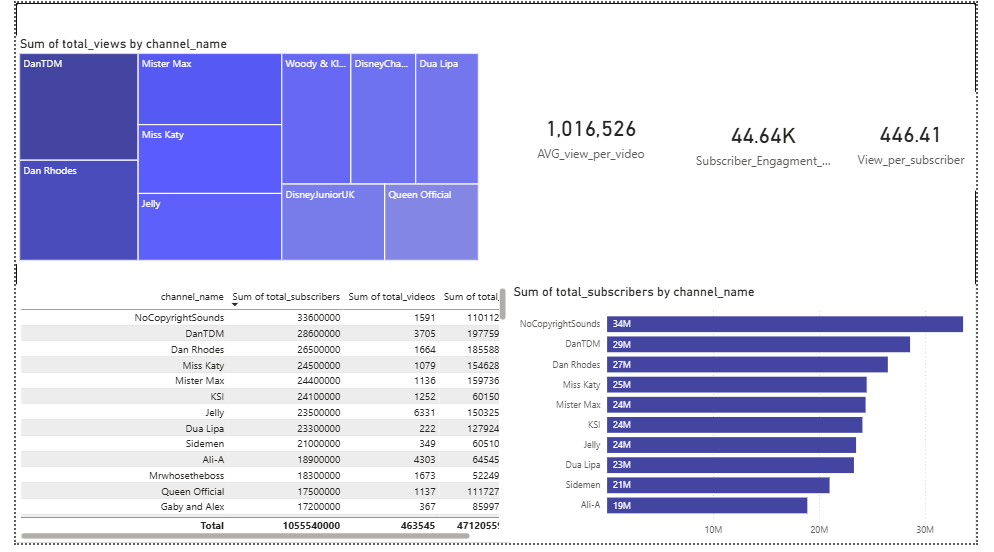

This screenshot's page, from the dashboard's own definition file:
{"tool":"powerbi","page":{"name":"Page 1","canvas":[1280,720],"ordinal":0},"visuals":[{"type":"tableEx","fields":{"Values":["viewyoutubedata2024.channel_name","Sum(viewyoutubedata2024.total_subscribers)","Sum(viewyoutubedata2024.total_videos)","Sum(viewyoutubedata2024.total_views)"]},"box":[0,375,658.3,345],"z":0},{"type":"treemap","fields":{"Group":["viewyoutubedata2024.channel_name"],"Values":["Sum(viewyoutubedata2024.total_views)"]},"box":[0,43.3,621.7,305],"z":1000},{"type":"barChart","fields":{"Category":["viewyoutubedata2024.channel_name"],"Y":["Sum(viewyoutubedata2024.total_subscribers)"]},"box":[658.7,374.6,621.6,345.8],"z":2000},{"type":"card","fields":{"Values":["viewyoutubedata2024.AVG_view_per_video"]},"box":[716.7,43.3,173.3,131.7],"z":3000},{"type":"card","fields":{"Values":["viewyoutubedata2024.Subscriber_Engagment_Rate"]},"box":[916.7,53.3,190,113.3],"z":4000},{"type":"card","fields":{"Values":["viewyoutubedata2024.View_per_subscriber"]},"box":[1106.7,43.3,173.3,131.7],"z":5000}]}

Visuals, with their boxes in screenshot pixels (x1, y1, x2, y2), scaled from the page's 1280x720 canvas onto the 994x552 screenshot:
tableEx - viewyoutubedata2024.channel_name x Sum(viewyoutubedata2024.total_subscribers): (0, 288, 511, 551)
treemap - viewyoutubedata2024.channel_name x Sum(viewyoutubedata2024.total_views): (0, 33, 483, 267)
barChart - viewyoutubedata2024.channel_name x Sum(viewyoutubedata2024.total_subscribers): (512, 287, 993, 551)
card - viewyoutubedata2024.AVG_view_per_video: (557, 33, 691, 134)
card - viewyoutubedata2024.Subscriber_Engagment_Rate: (712, 41, 859, 128)
card - viewyoutubedata2024.View_per_subscriber: (859, 33, 993, 134)
